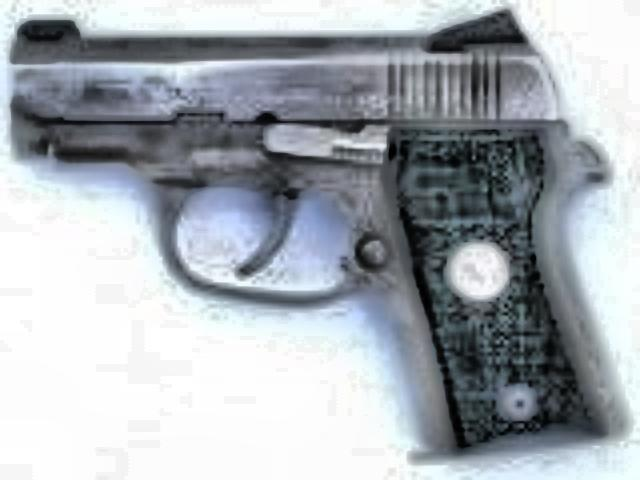pistol: (20, 0, 620, 452)
